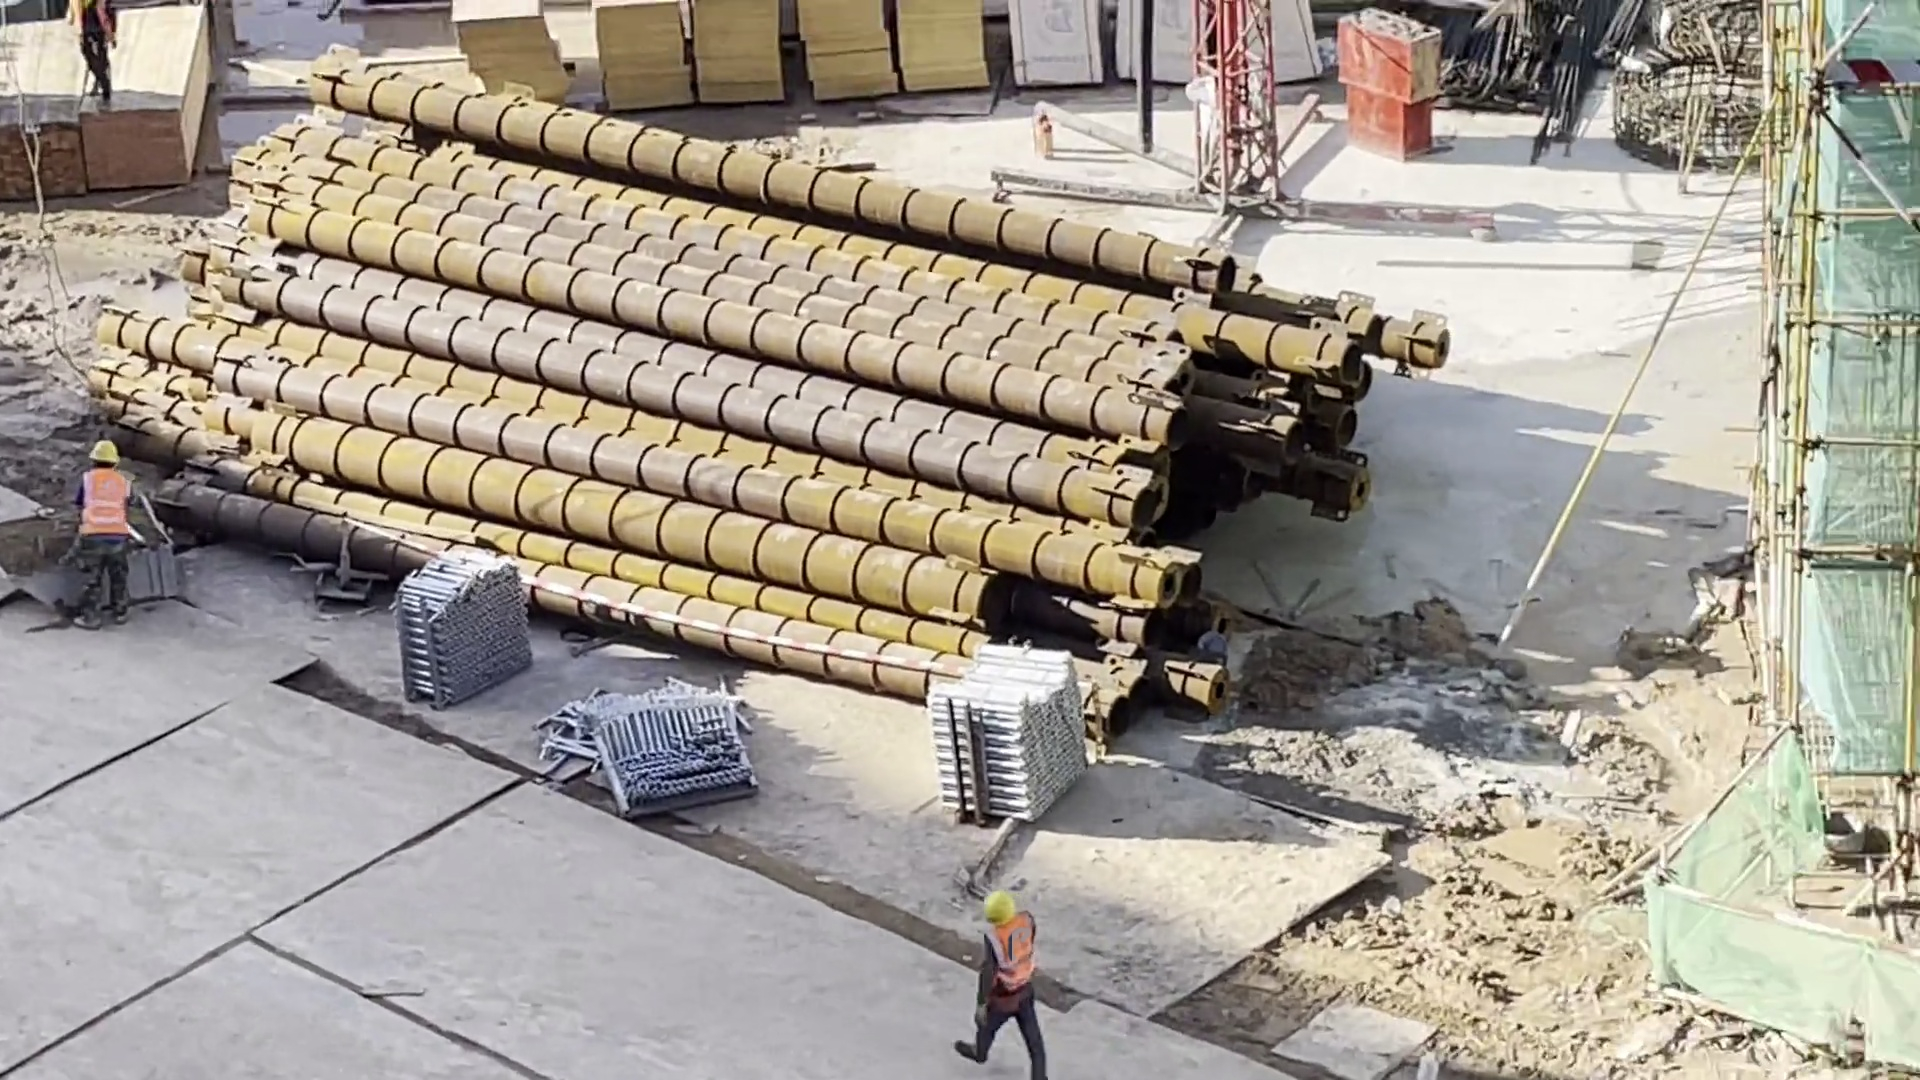board: (445, 1, 582, 101), (584, 2, 700, 119), (897, 1, 1001, 113), (688, 1, 788, 117), (796, 2, 901, 108)
helmet: (971, 890, 1015, 931), (84, 432, 122, 468)
person: (943, 878, 1062, 1080), (51, 423, 152, 649)
scaffold: (914, 624, 1103, 832), (374, 532, 551, 716)
vest: (971, 906, 1045, 997), (62, 464, 137, 552)
